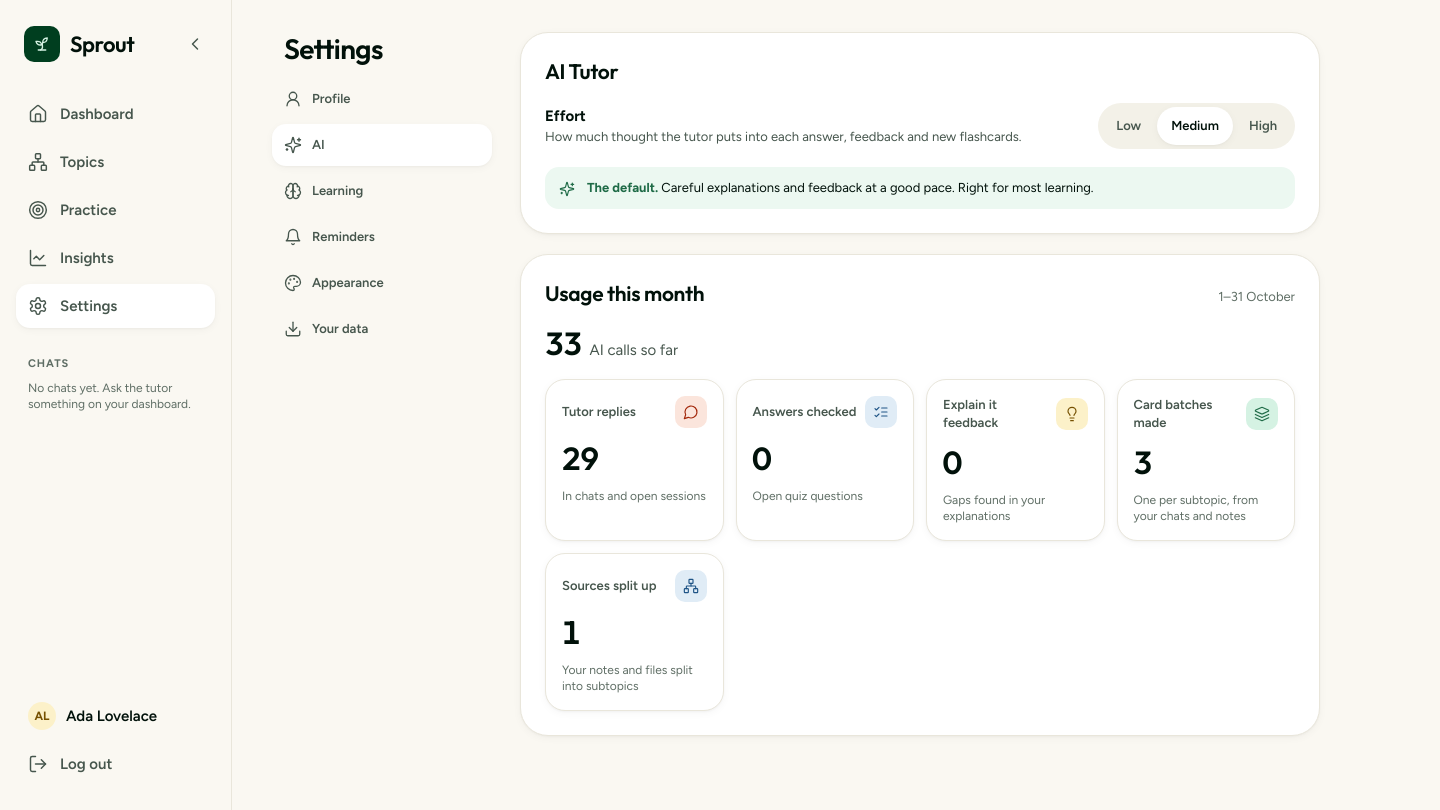
Test: AiSettings › puts the old effort back when saving fails
The width and height of the screenshot is (1440, 810).
What coordinates should you click on to do the following:
click the tab with test id "tab-low"
I would click on:
 (1129, 126)
Its box is [1102, 107, 1155, 145].
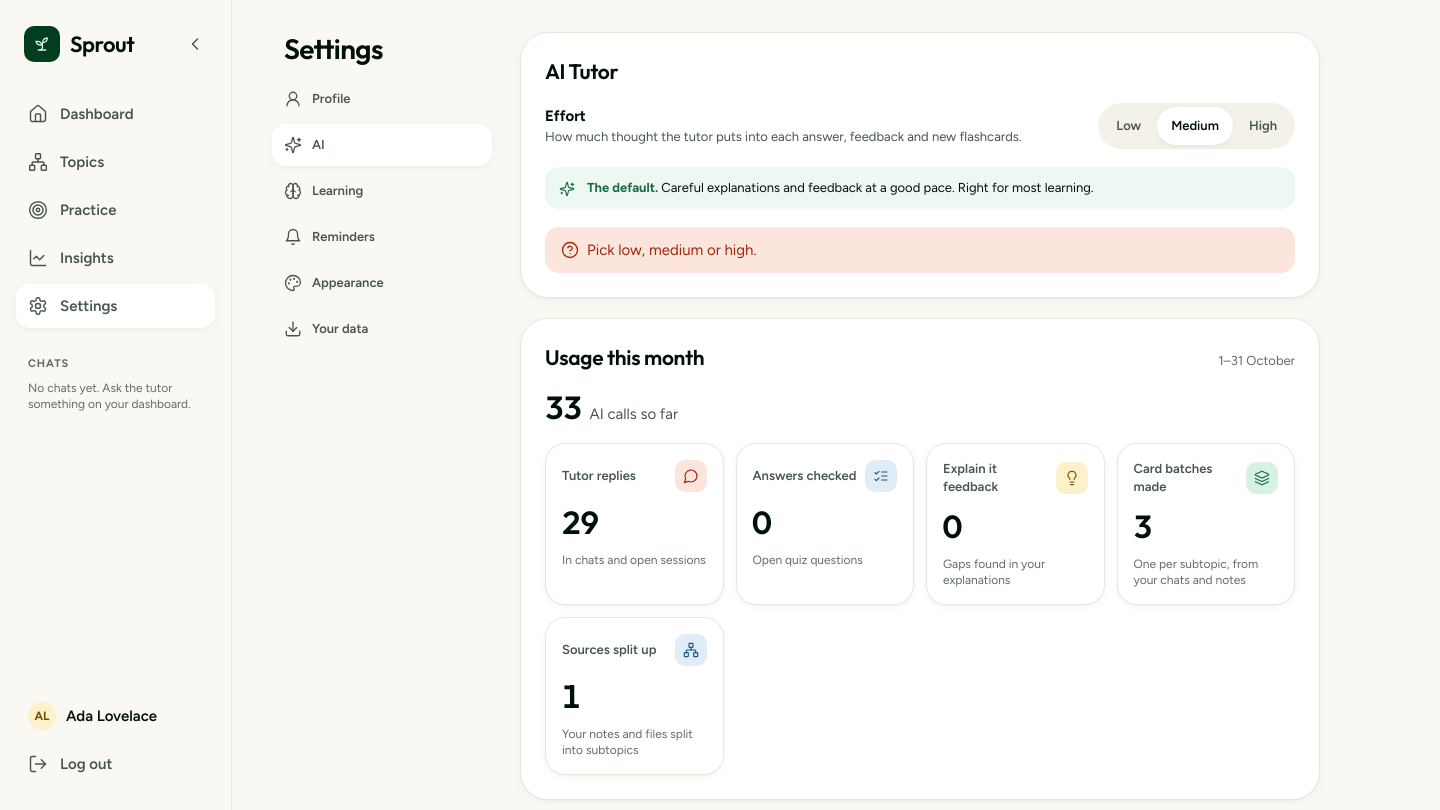
Expected: the message with test id "form-error" reads "Pick low, medium or high.", [587, 241, 757, 259]
